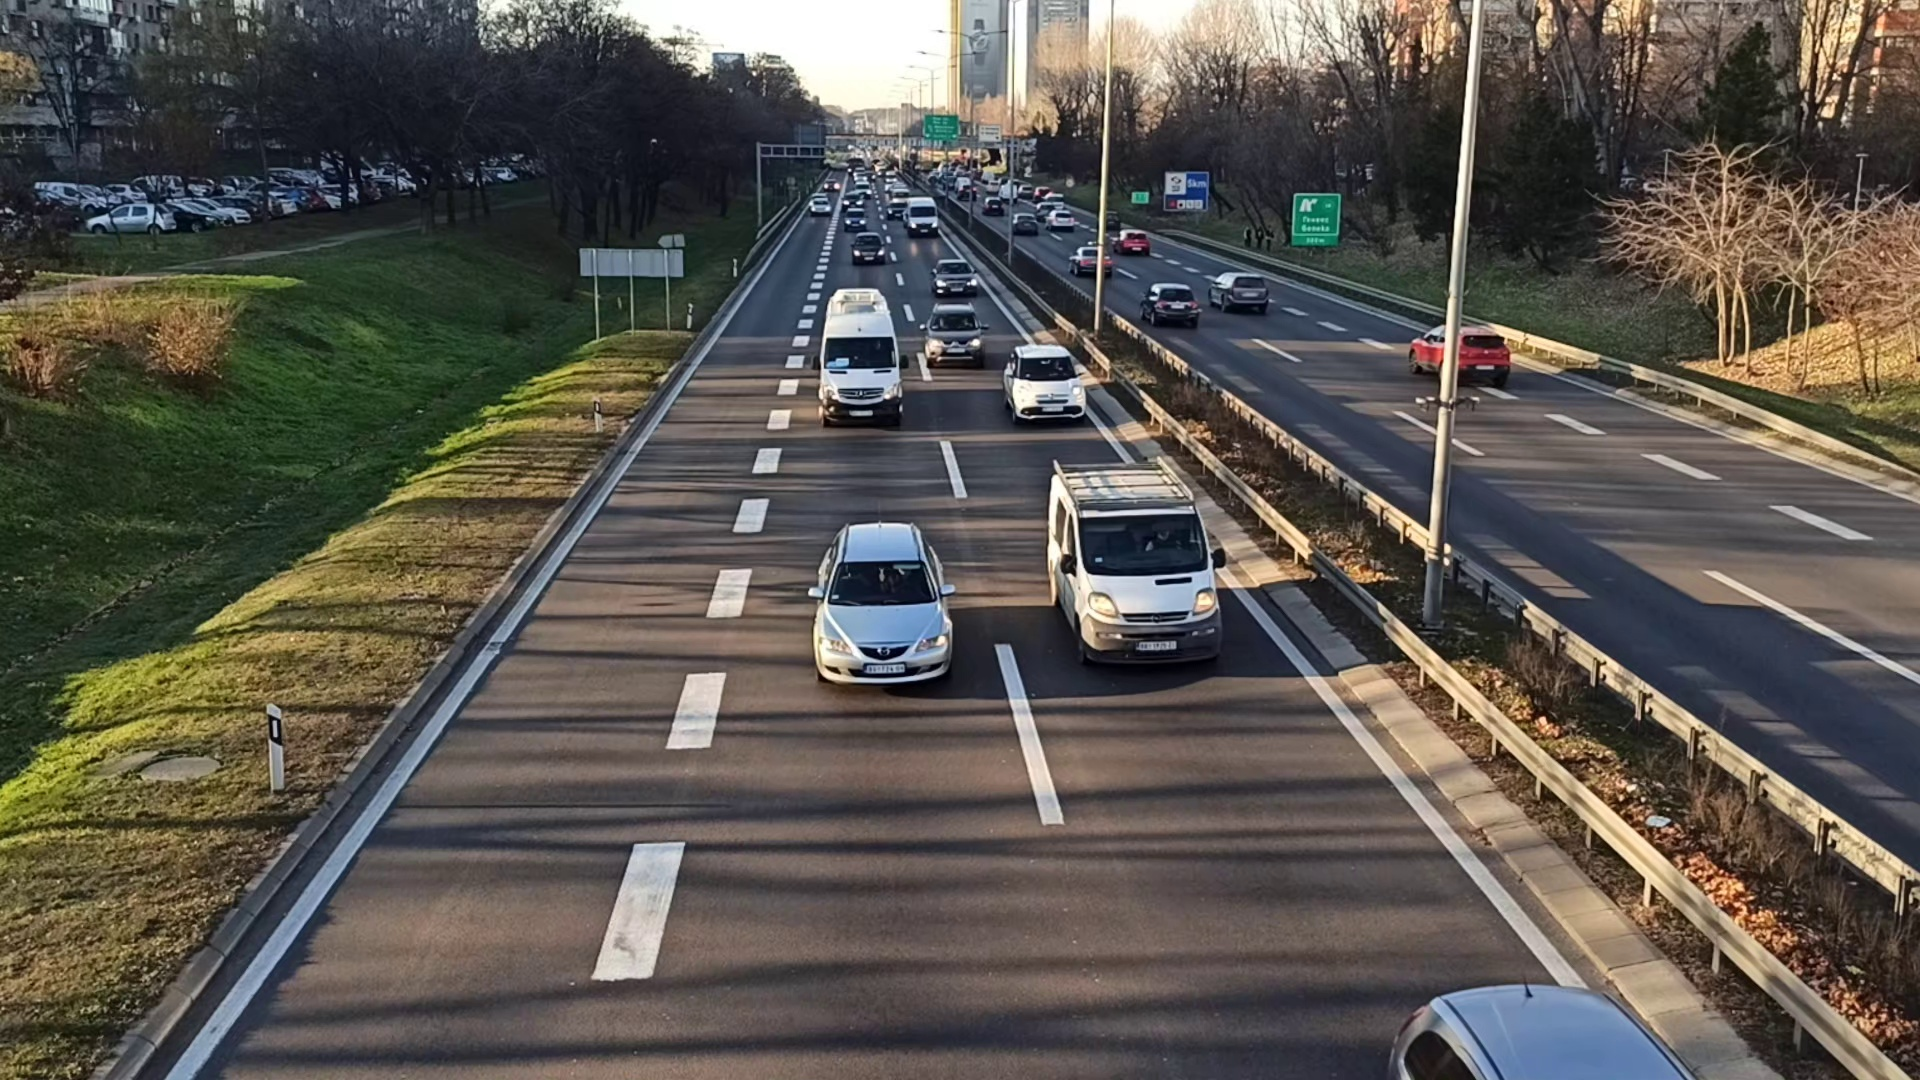car: (812, 524, 956, 698), (1002, 344, 1087, 429), (1408, 322, 1513, 385), (920, 305, 988, 363), (1139, 282, 1200, 328), (1208, 272, 1269, 314), (932, 257, 978, 298), (1068, 244, 1114, 278), (851, 228, 882, 266)
van: (1038, 462, 1222, 669), (816, 291, 906, 425), (905, 196, 940, 239)
